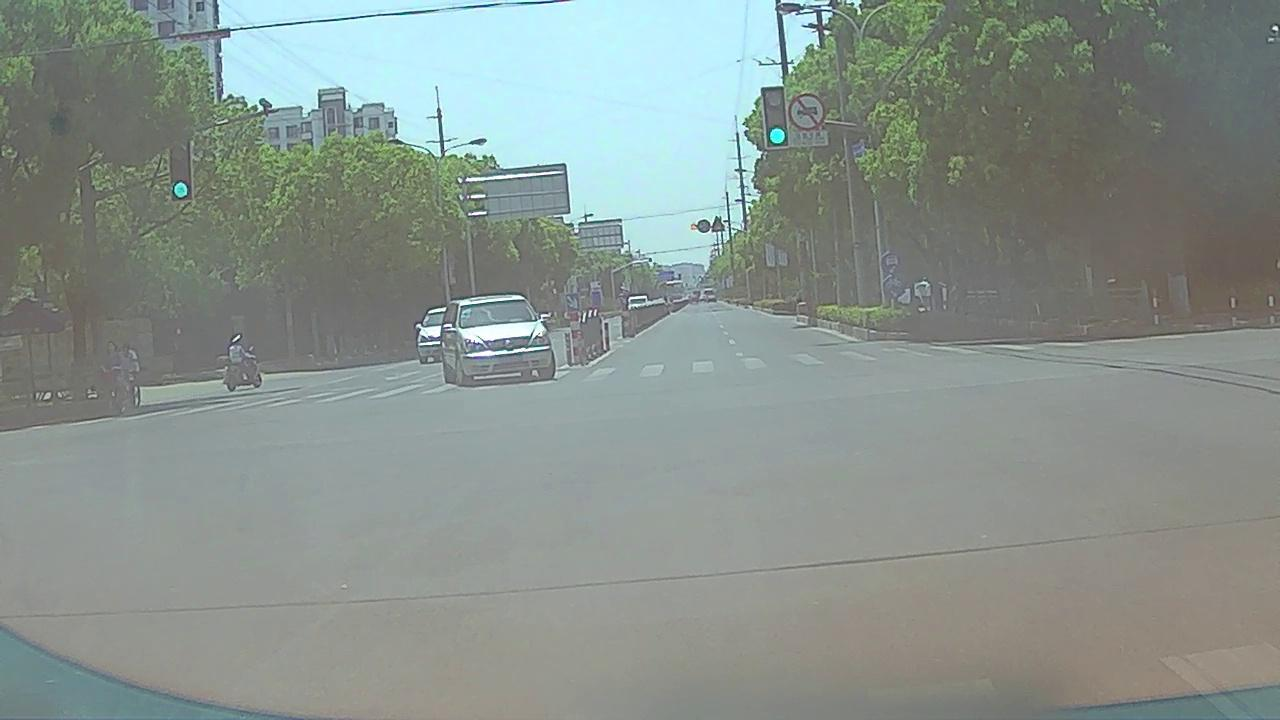traffic_light: (760, 90, 787, 148), (169, 143, 191, 198)
